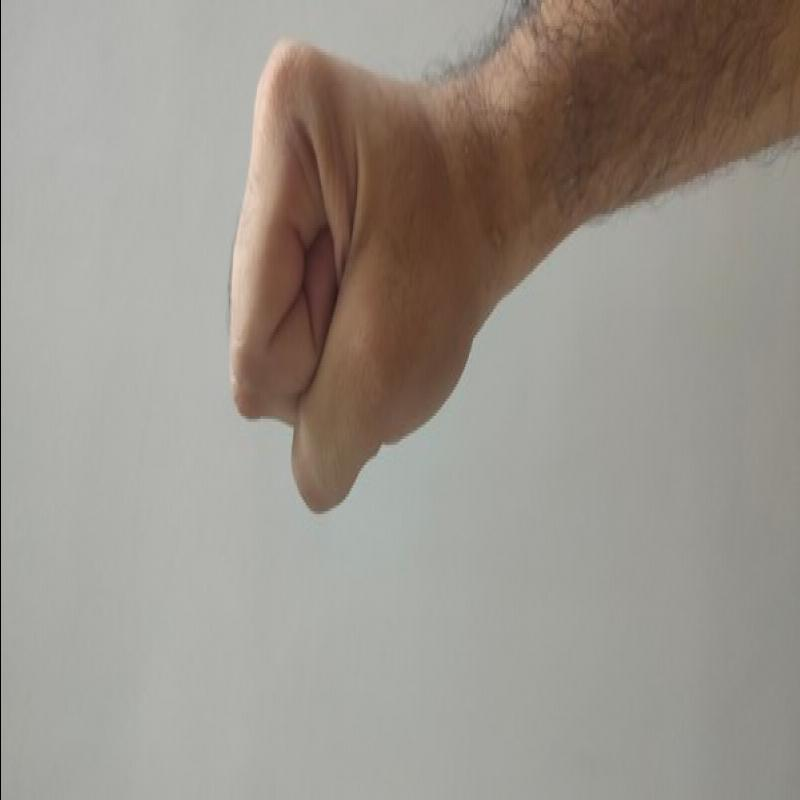Mushti: (212, 1, 478, 528)
